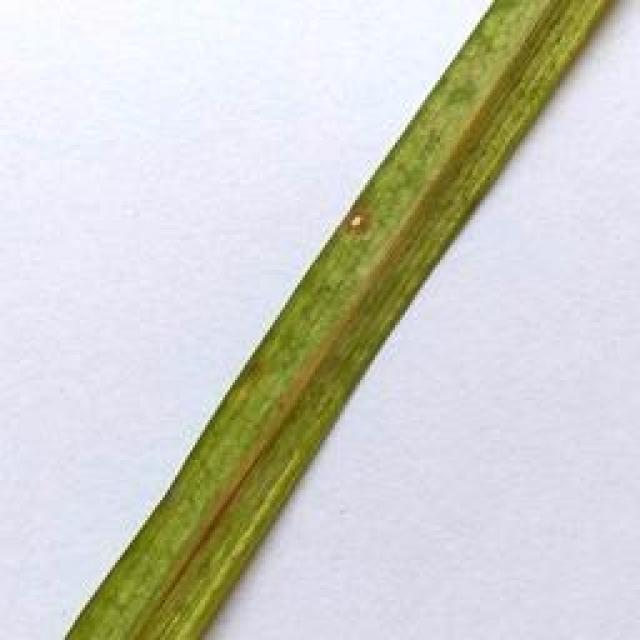Unhealthy: (343, 210, 367, 233)
